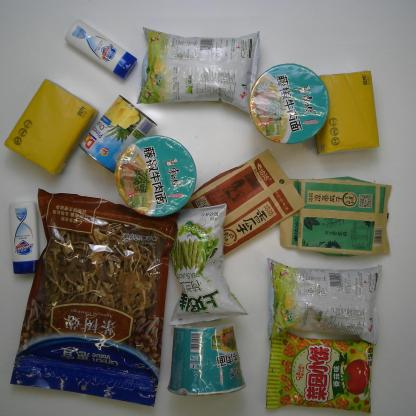Canned Food: (76, 92, 160, 176)
Dried Food: (7, 183, 181, 409), (177, 146, 309, 260), (271, 170, 396, 262)
Instant Noodles: (245, 60, 332, 147), (112, 133, 198, 220), (165, 318, 248, 399)
Personal Hygiene: (63, 18, 140, 81), (4, 196, 47, 278)
Puffed Food: (260, 254, 388, 349), (134, 24, 264, 117), (161, 198, 253, 328), (262, 324, 375, 415)
Tissue: (2, 76, 101, 179), (312, 67, 384, 158)
